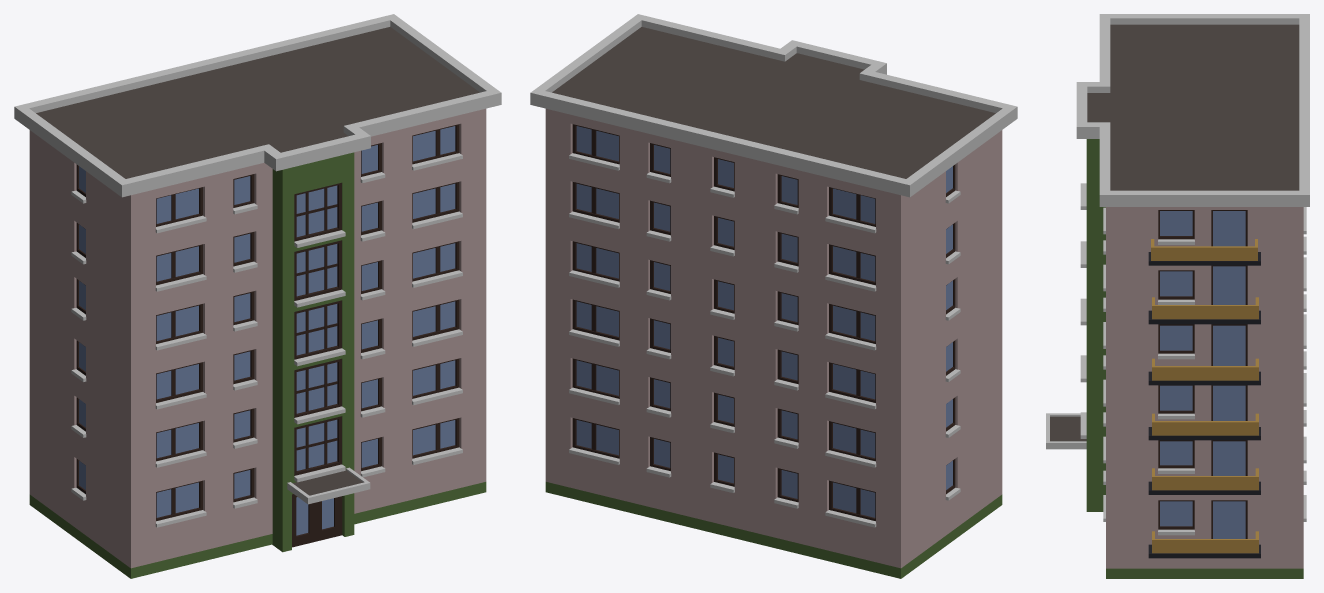
The model's file is ApartmentBuilding_10.fbx.
3 renders of one model, left to right at view 1: azimuth 30°, elevation 25°; view 2: azimuth 150°, elevation 25°; view 3: azimuth 270°, elevation 25°, orthographic. The views are drawn at different scales.
Visible parts, largest first — view 1: ApartmentBuilding_10; view 2: ApartmentBuilding_10; view 3: ApartmentBuilding_10.
Boxes of the visible parts, x1,y1,x2,y2 form: ApartmentBuilding_10: (14, 14, 501, 578); ApartmentBuilding_10: (530, 14, 1017, 578); ApartmentBuilding_10: (1046, 14, 1309, 578).
Bounding box in the file's own units: 16.54 × 16.33 × 10.
